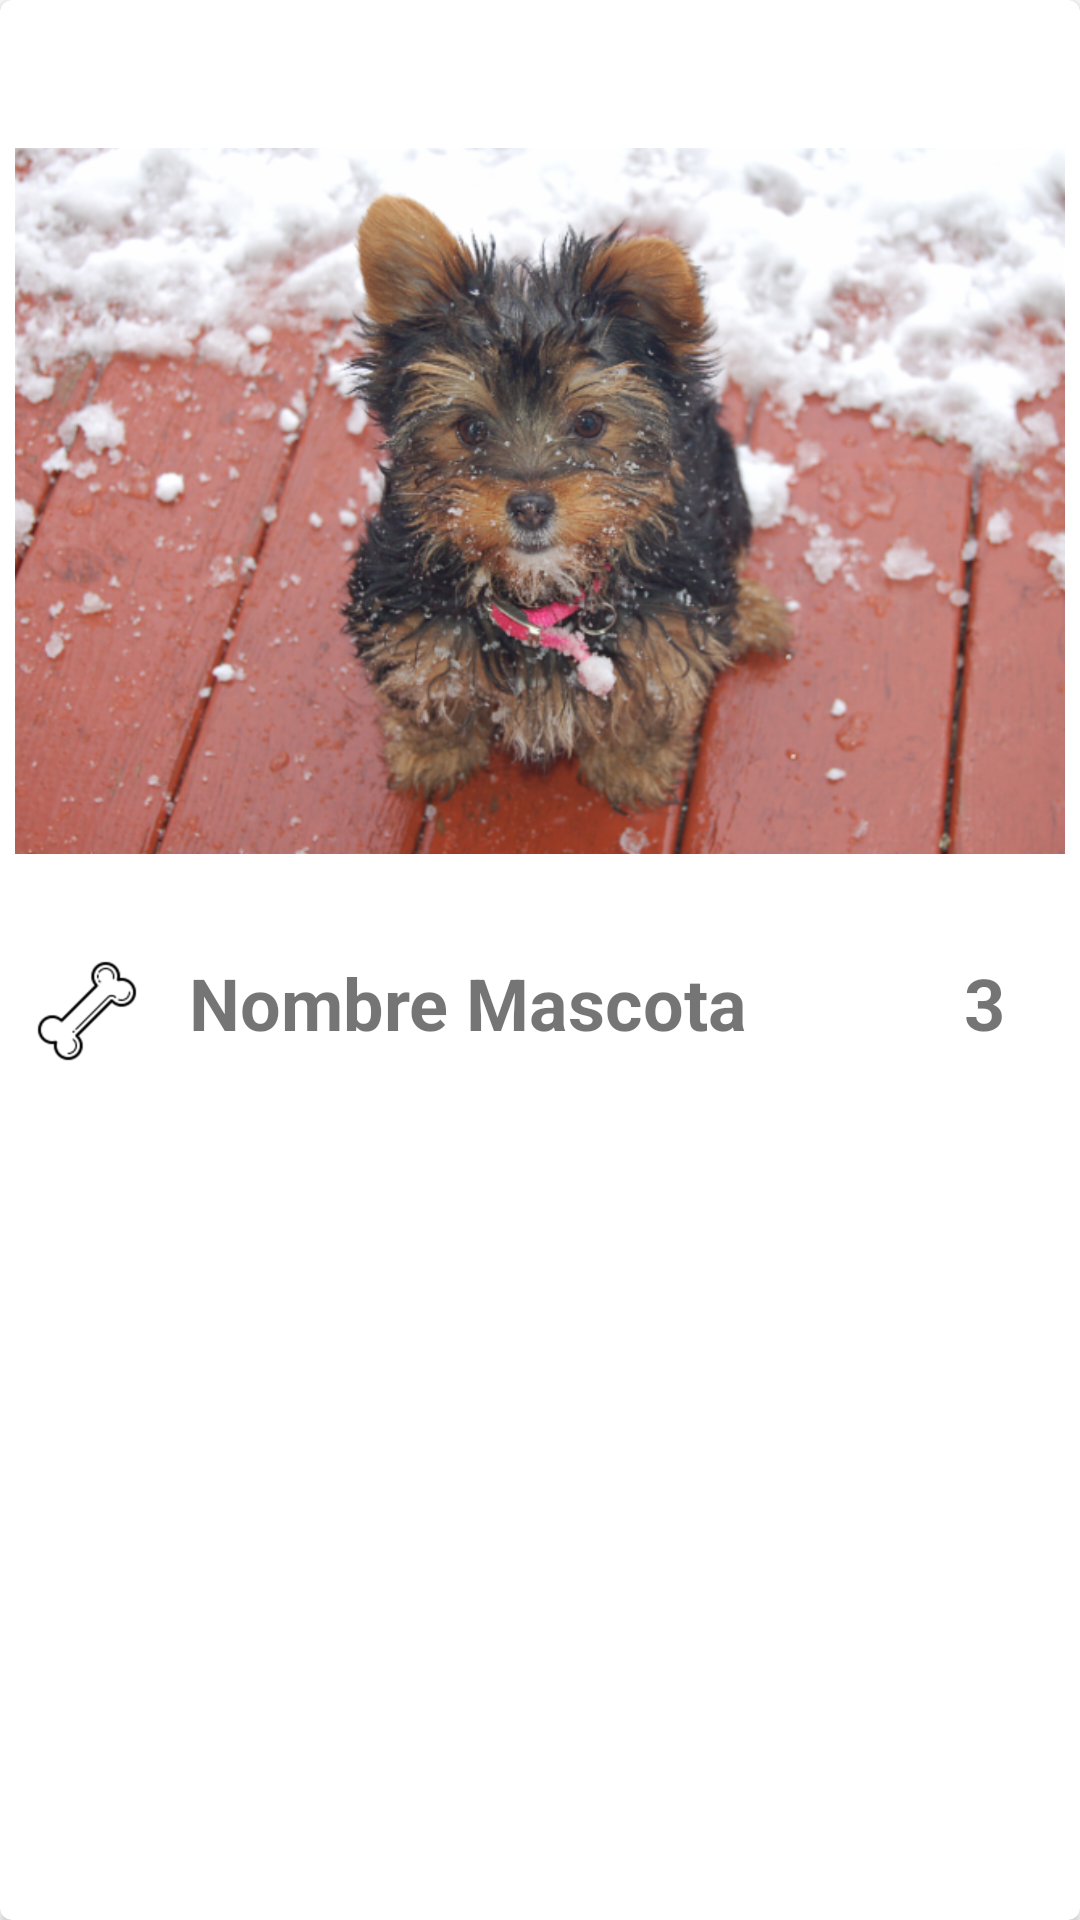

Named icons in this screenshot (1080x1920) and their bounding boxes, (x1, y1, x2, y2):
bone: (37, 961, 137, 1061)
